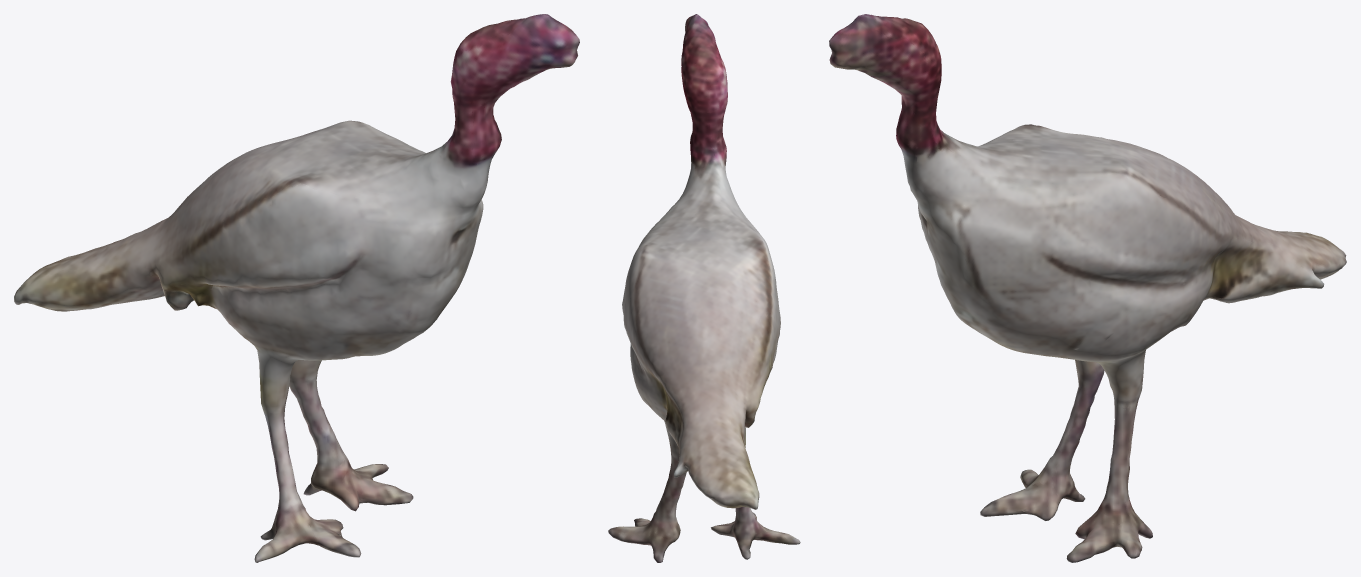
The model's file is joven.glb.
3 renders of one model, left to right at view 1: azimuth 30°, elevation 25°; view 2: azimuth 150°, elevation 25°; view 3: azimuth 270°, elevation 25°, orthographic. The views are drawn at different scales.
Visible parts, largest first — view 1: mesh; view 2: mesh; view 3: mesh.
Boxes of the visible parts, x1,y1,x2,y2 form: mesh: (14,14,579,562); mesh: (608,14,800,562); mesh: (829,14,1346,562).
Bounding box in the file's own units: 0.8755 × 1.45 × 1.19.
1 material, 1 textured.
